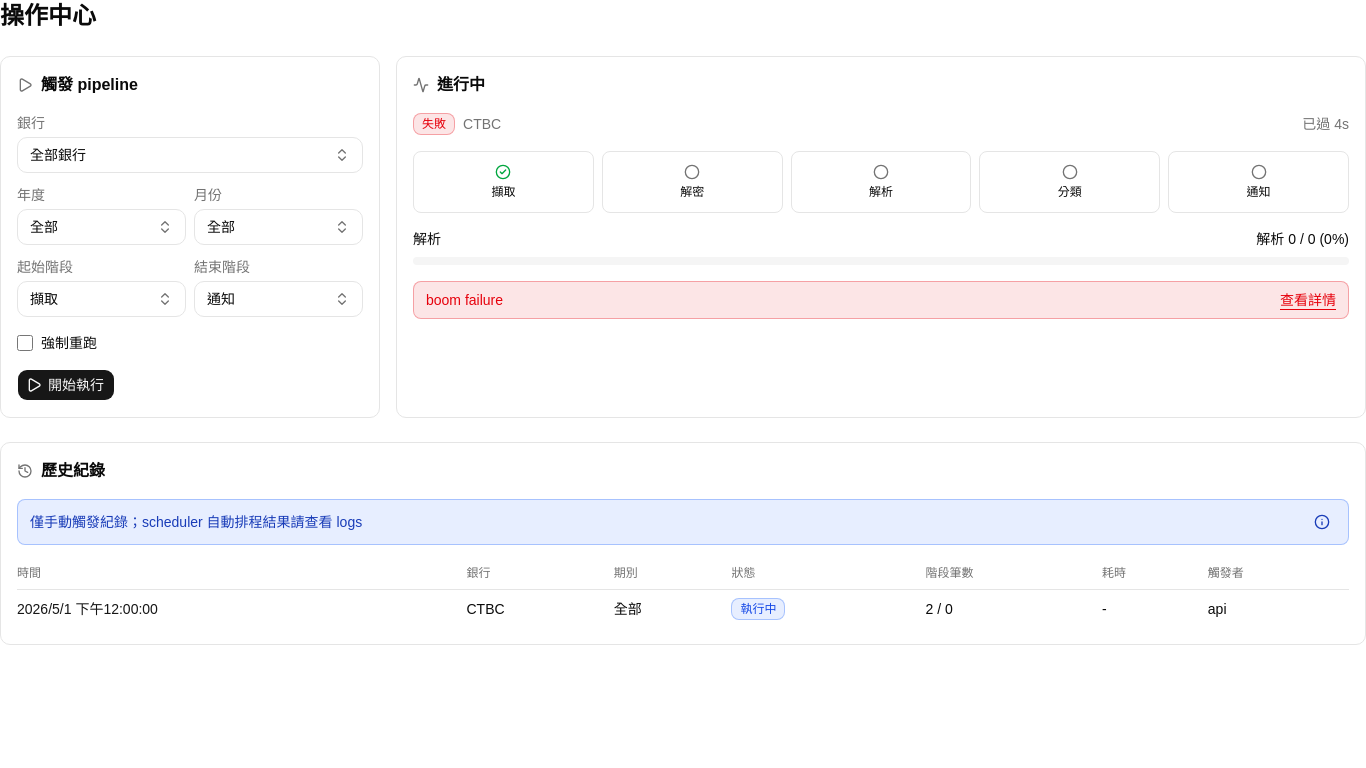
Test: OperationsPage coverage › renders a failed active run with an error alert and detail dialog
Expected: the message shows "boom failure", [426,292,503,308]
Click the button "查看詳情": (1308, 300) [1280,290,1336,310]
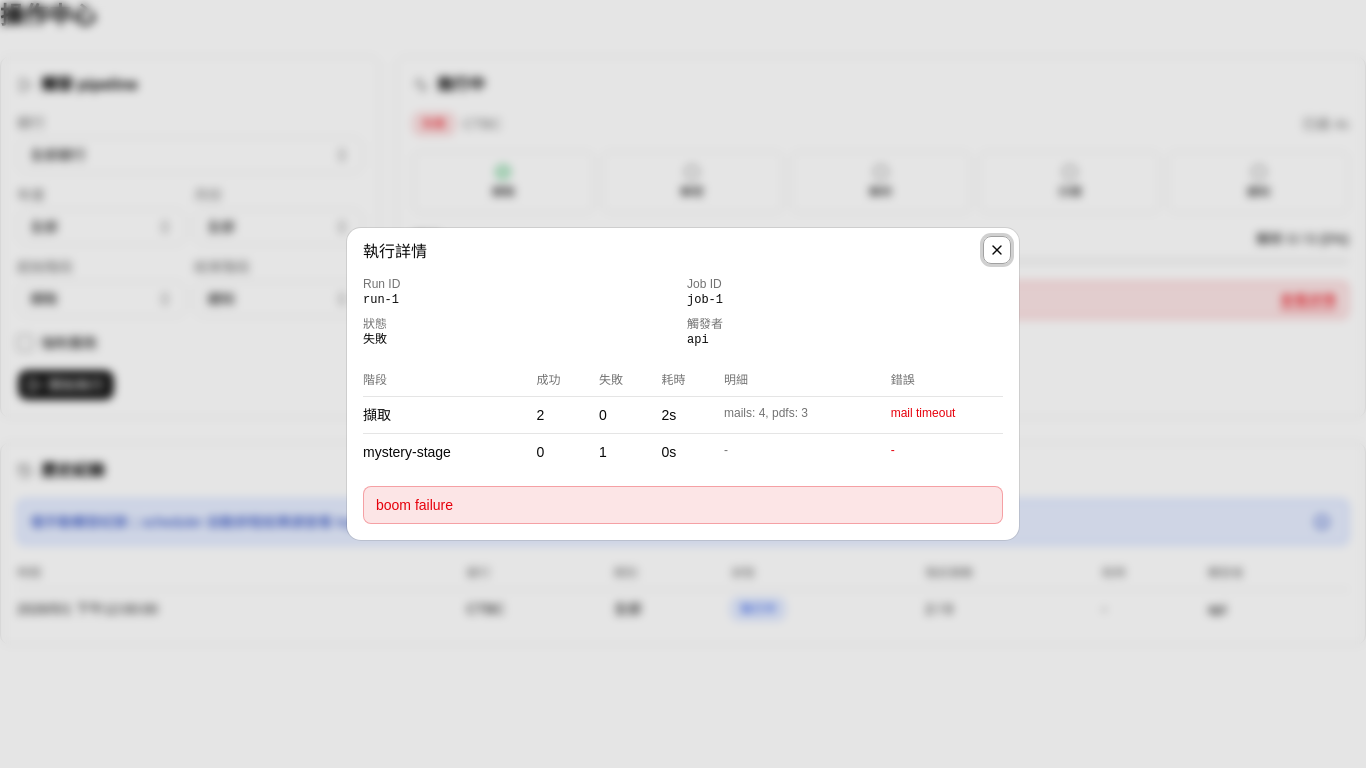
Result: the text "Run ID" is shown at [363,277,400,291]
Result: the text "擷取" is shown at [363,396,536,434]
Result: the text "mystery-stage" is shown at [363,434,536,470]
